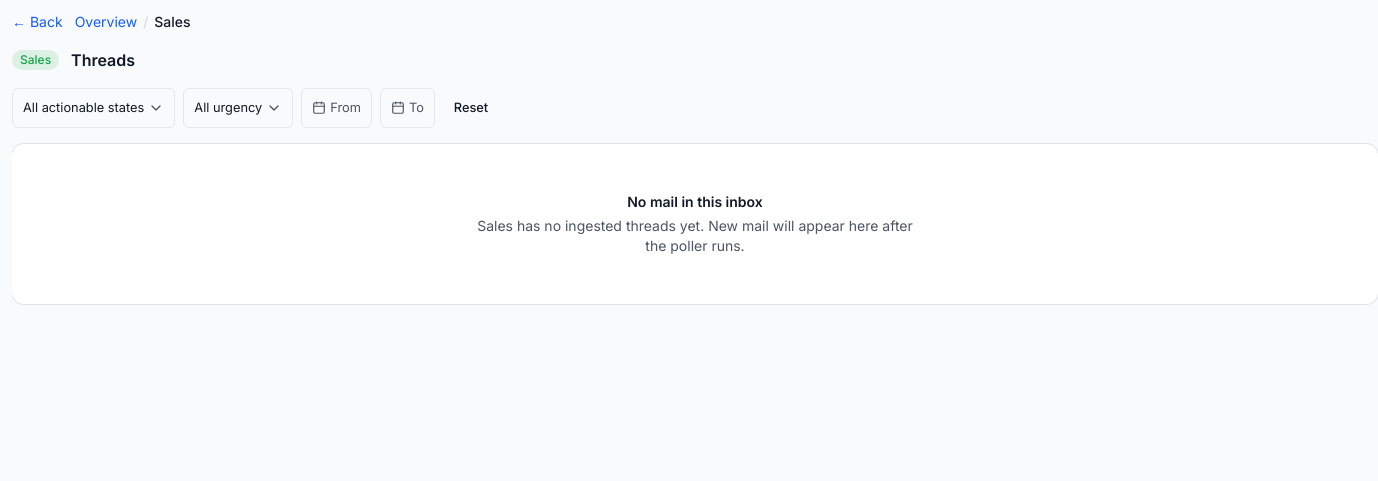
Mailbox page filters › keeps Spam in the state filter and drops stale / show-filtered toggles
Click the dropdown named "Filter by state" at (94, 108), box [12,88,175,128]
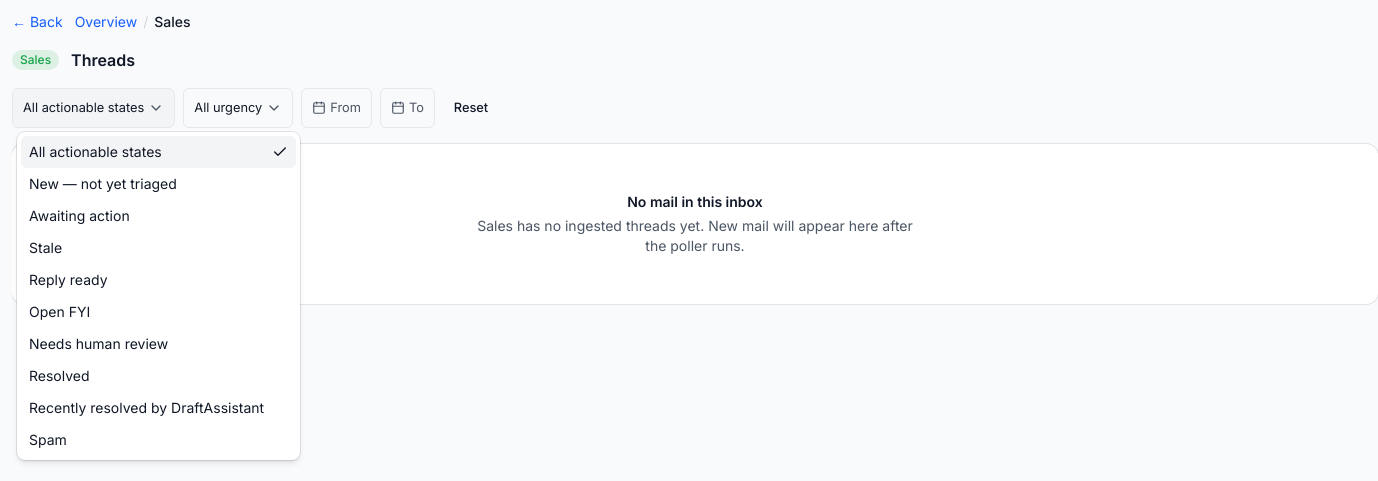
Expected: the option "Spam" is shown, [29,431,67,448]
